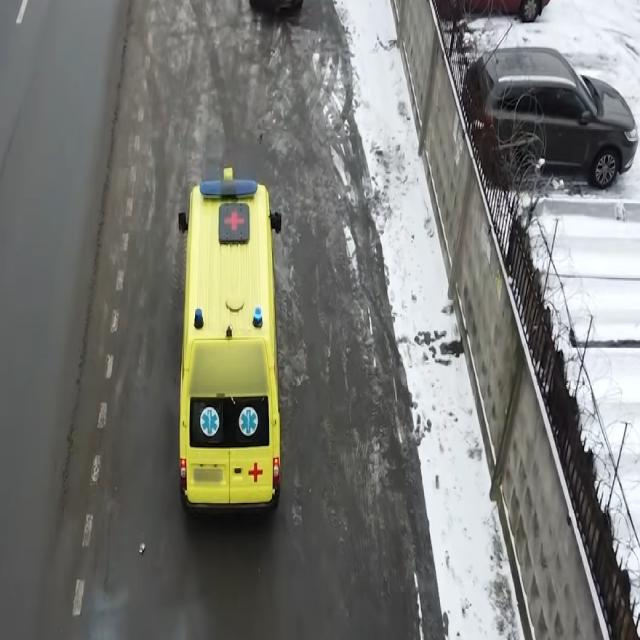intensive care unit: (175, 169, 284, 522)
non emergency car: (462, 46, 638, 190)
